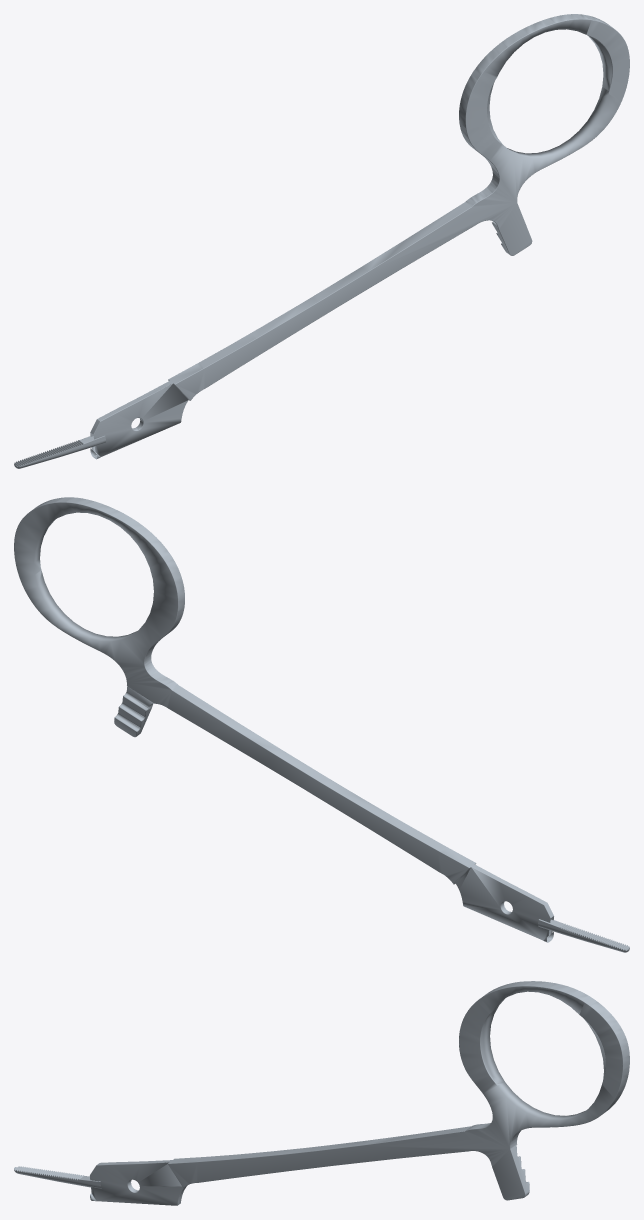
The model's file is moving.obj.
3 renders of one model, top to bottom at view 1: azimuth 30°, elevation 25°; view 2: azimuth 150°, elevation 25°; view 3: azimuth 330°, elevation 25°, orthographic.
Size of the model in its own units: 0.112 by 0.057 by 0.00219.
